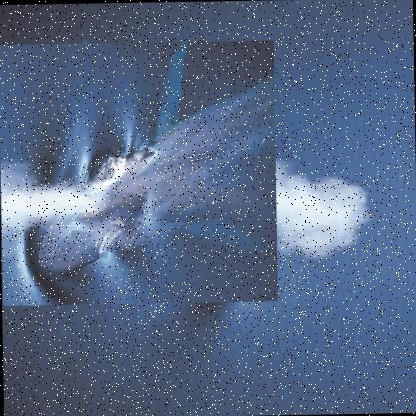blue_whale: (0, 38, 279, 306)
